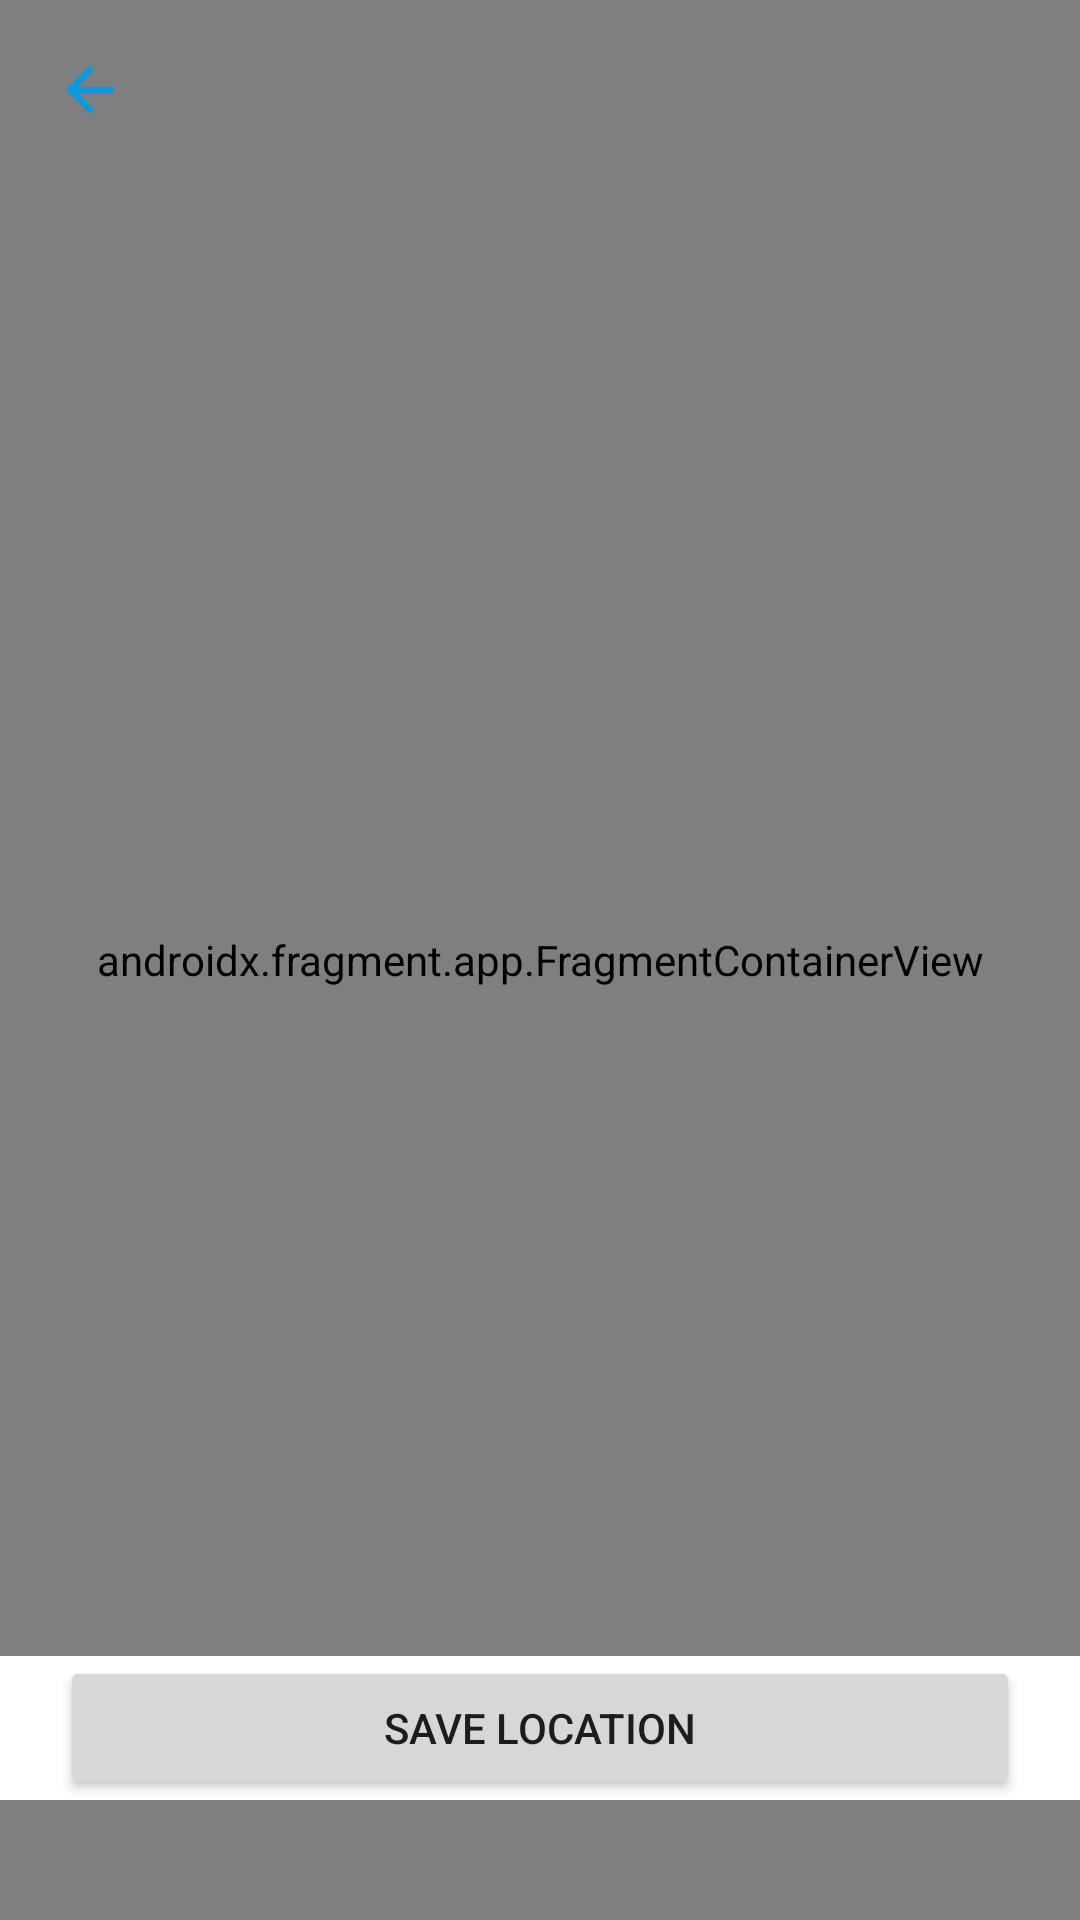

Icon bounding boxes for this 1080 x 1920 phone screenshot, format box(x1, y1, x2, y2):
arrow back for frag: box(66, 66, 114, 114)
